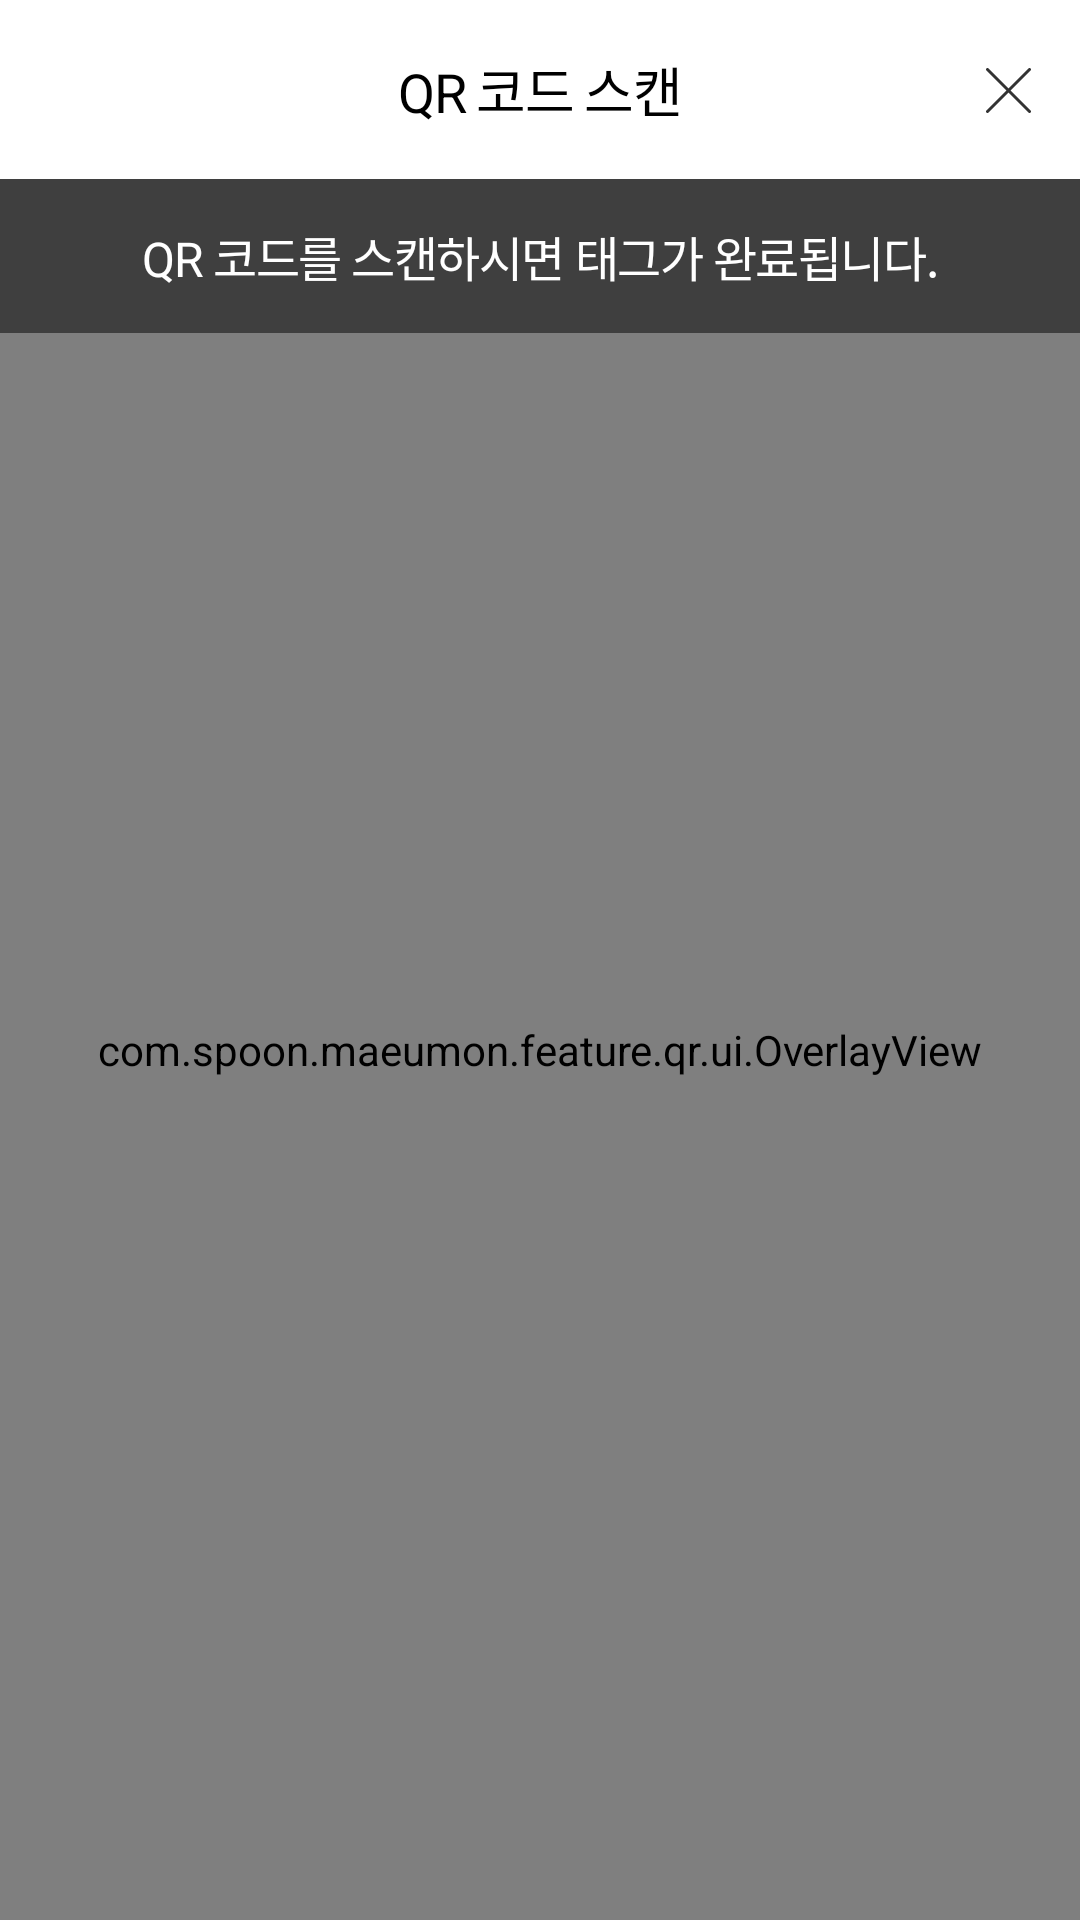

Point at icon controls on the screen. Image size 1080 × 1920, points as (x=x, y=y).
닫기: (x=1008, y=90)
